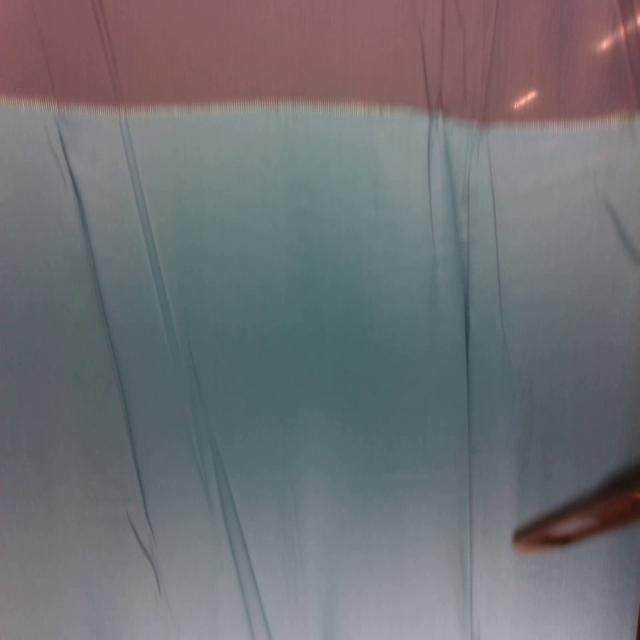crease: (27, 0, 272, 640), (414, 7, 506, 640)
